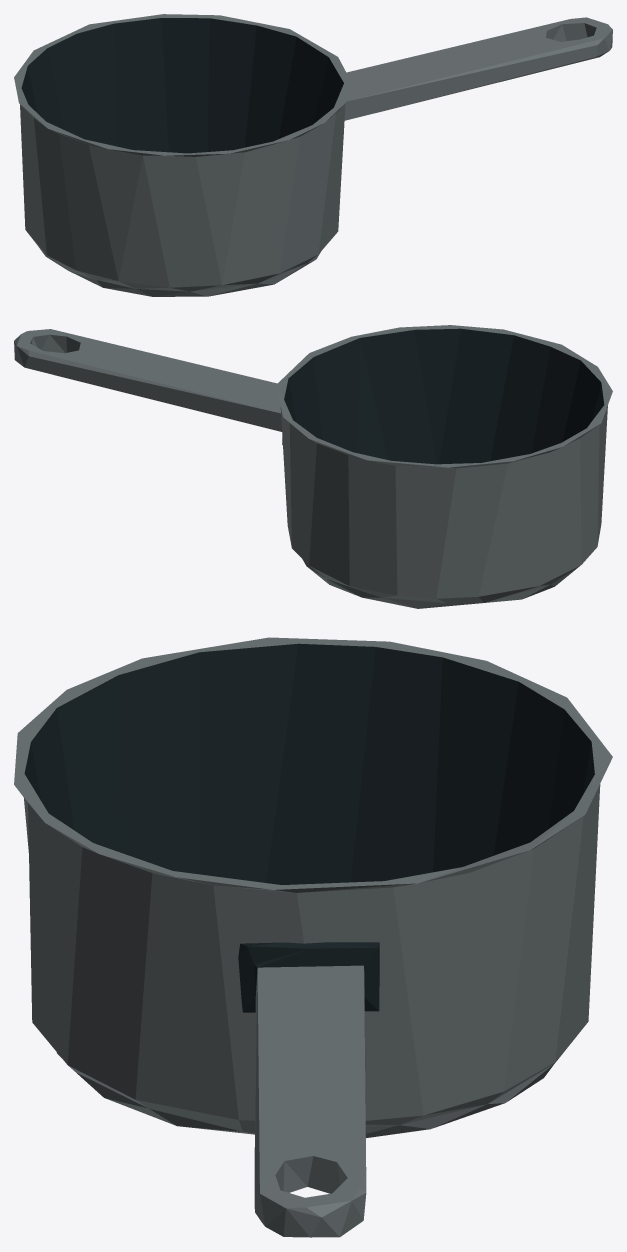
The model's file is Pot06.fbx.
The picture shows the model from 3 angles, top to bottom: view 1: azimuth 30°, elevation 25°; view 2: azimuth 150°, elevation 25°; view 3: azimuth 270°, elevation 25°; orthographic projection. The views are drawn at different scales.
Parts seen in each view (by area): view 1: Pot06LowPoly; view 2: Pot06LowPoly; view 3: Pot06LowPoly.
Boxes of the visible parts, x1=… form: Pot06LowPoly: x1=14, y1=14, x2=612, y2=296; Pot06LowPoly: x1=14, y1=325, x2=612, y2=608; Pot06LowPoly: x1=14, y1=637, x2=612, y2=1237.
Bounding box in the file's own units: 31.3 × 8 × 15.94.
